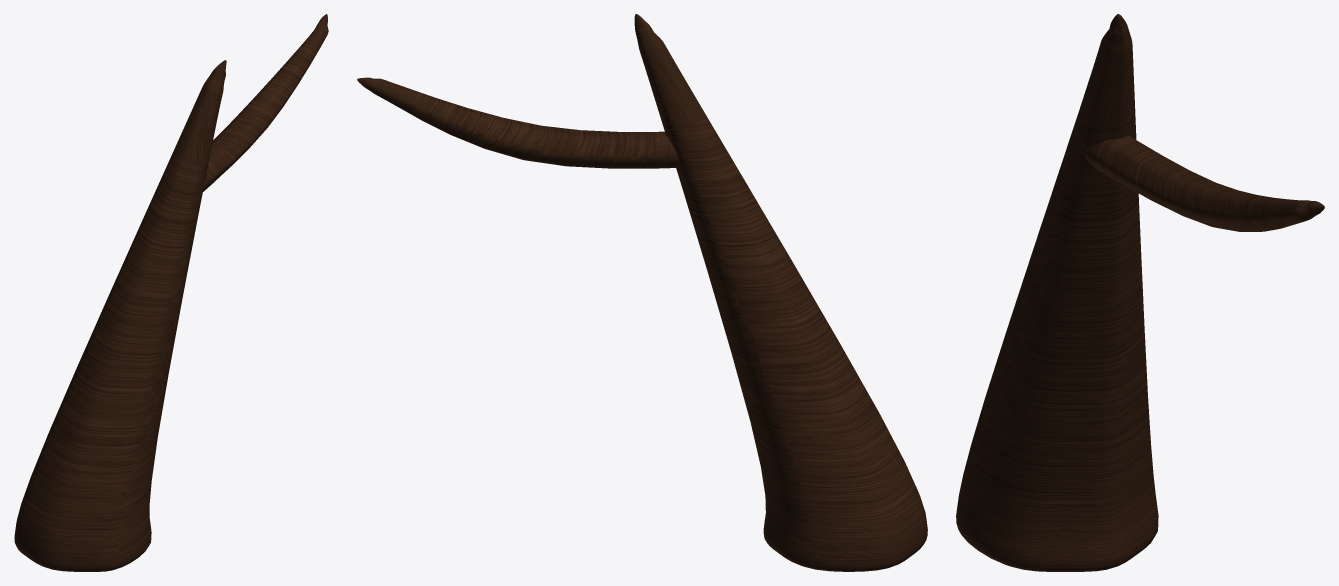
The model's file is jewerlydisplayed2.fbx.
The picture shows the model from 3 angles, left to right: view 1: azimuth 30°, elevation 25°; view 2: azimuth 150°, elevation 25°; view 3: azimuth 270°, elevation 25°; orthographic projection. The views are drawn at different scales.
Parts seen in each view (by area): view 1: stand, stand3; view 2: stand, stand3; view 3: stand, stand3.
Part boxes in pixels (left/top/right/bottom): stand: left=14, top=60, right=226, bottom=571; stand3: left=203, top=14, right=328, bottom=191; stand: left=634, top=14, right=927, bottom=571; stand3: left=357, top=77, right=678, bottom=168; stand: left=956, top=14, right=1158, bottom=571; stand3: left=1083, top=136, right=1324, bottom=231.
Bounding box in the file's own units: 0.3561 × 0.3783 × 0.1975.
